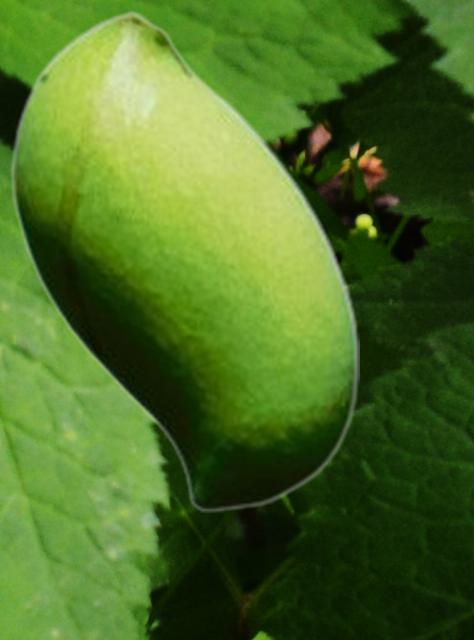green_mango: (9, 9, 358, 512)
